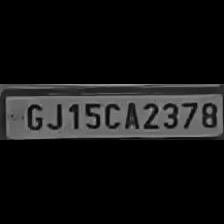1: (63, 99, 81, 131)
2: (140, 100, 160, 130)
3: (160, 99, 178, 129)
5: (80, 100, 102, 130)
7: (179, 99, 197, 129)
8: (198, 99, 218, 129)
A: (120, 100, 140, 130)
C: (102, 100, 120, 130)
G: (22, 99, 44, 131)
J: (44, 99, 64, 131)
